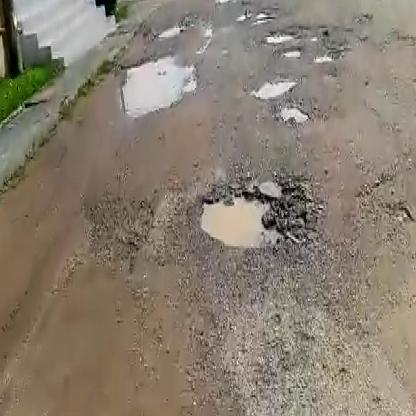pothole: (195, 179, 306, 251), (122, 50, 198, 115), (250, 75, 296, 99), (276, 102, 316, 127), (238, 6, 280, 24), (259, 29, 301, 43), (158, 26, 183, 38), (313, 55, 333, 67), (282, 49, 302, 59)
